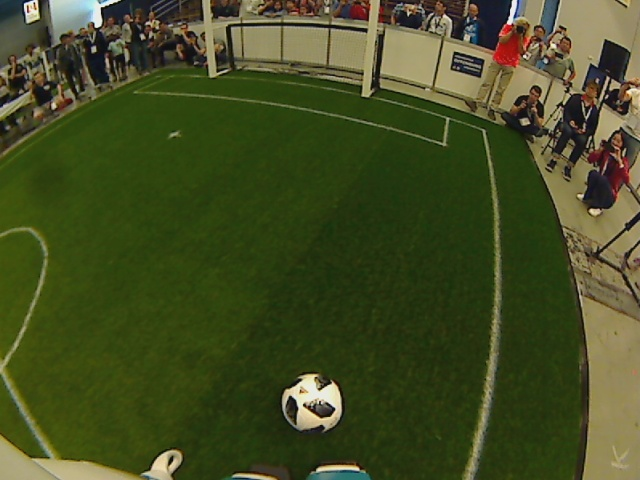ball: (278, 372, 345, 436)
goalpost: (352, 77, 377, 107), (200, 61, 221, 87)
